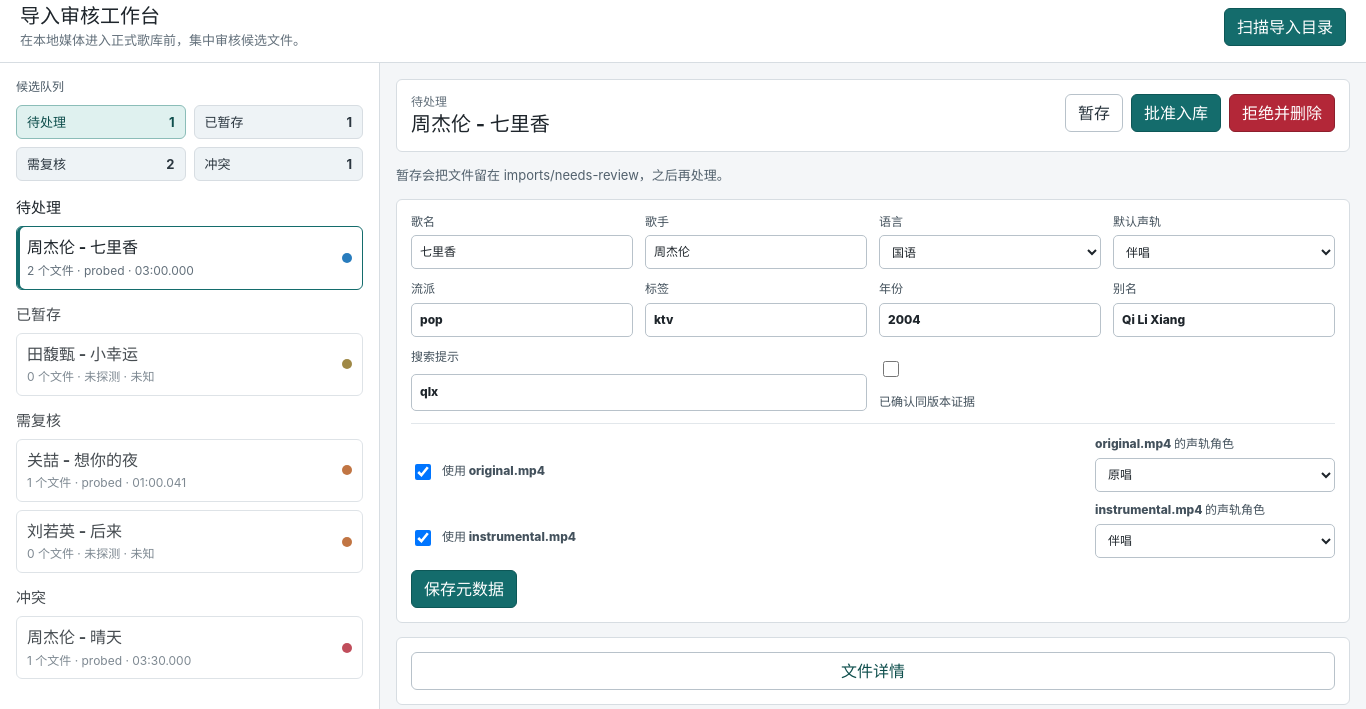
Test: import review workbench › expanding a candidate shows original files, proposed roles, root kind, path, probe status, and duration
Click the button "周杰伦 - 七里香 2 个文件 · probed · 03:00.000" at (51, 247), box [16, 226, 363, 290]
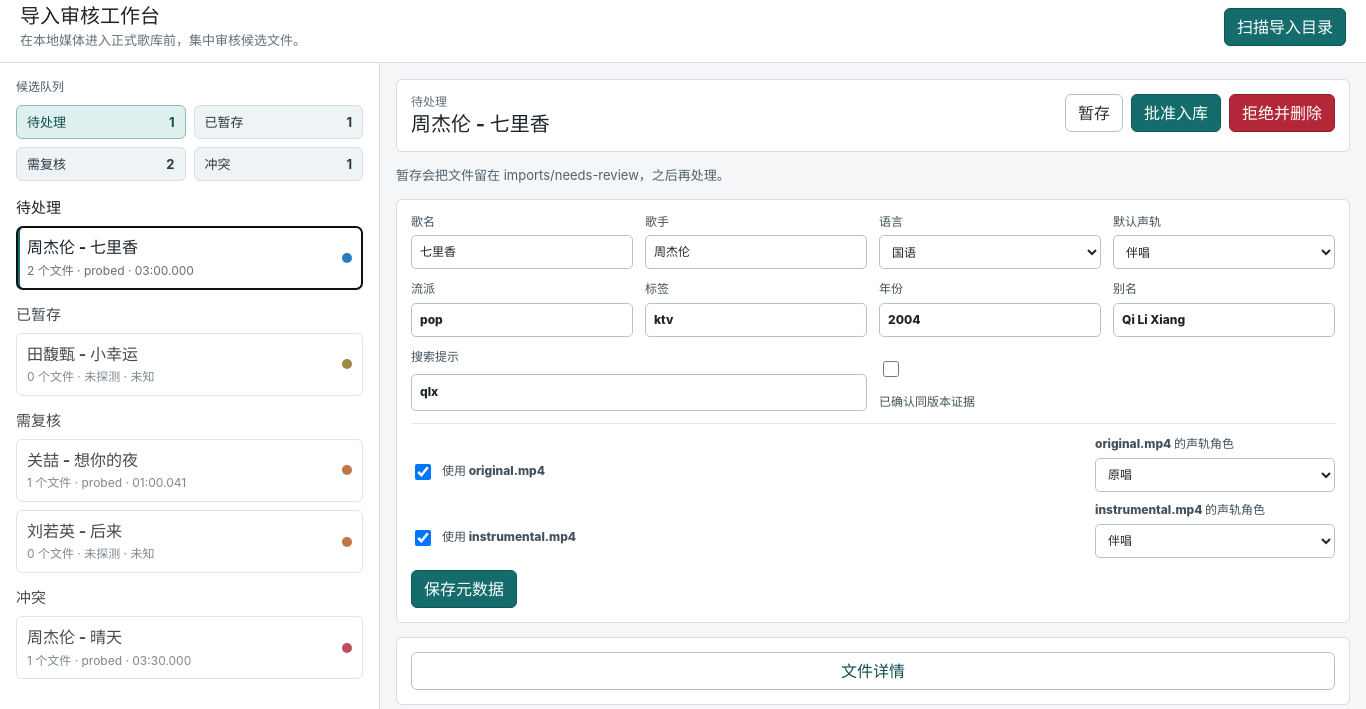
Click the button "文件详情" at (873, 671), box [411, 652, 1335, 690]
(page scrolled)
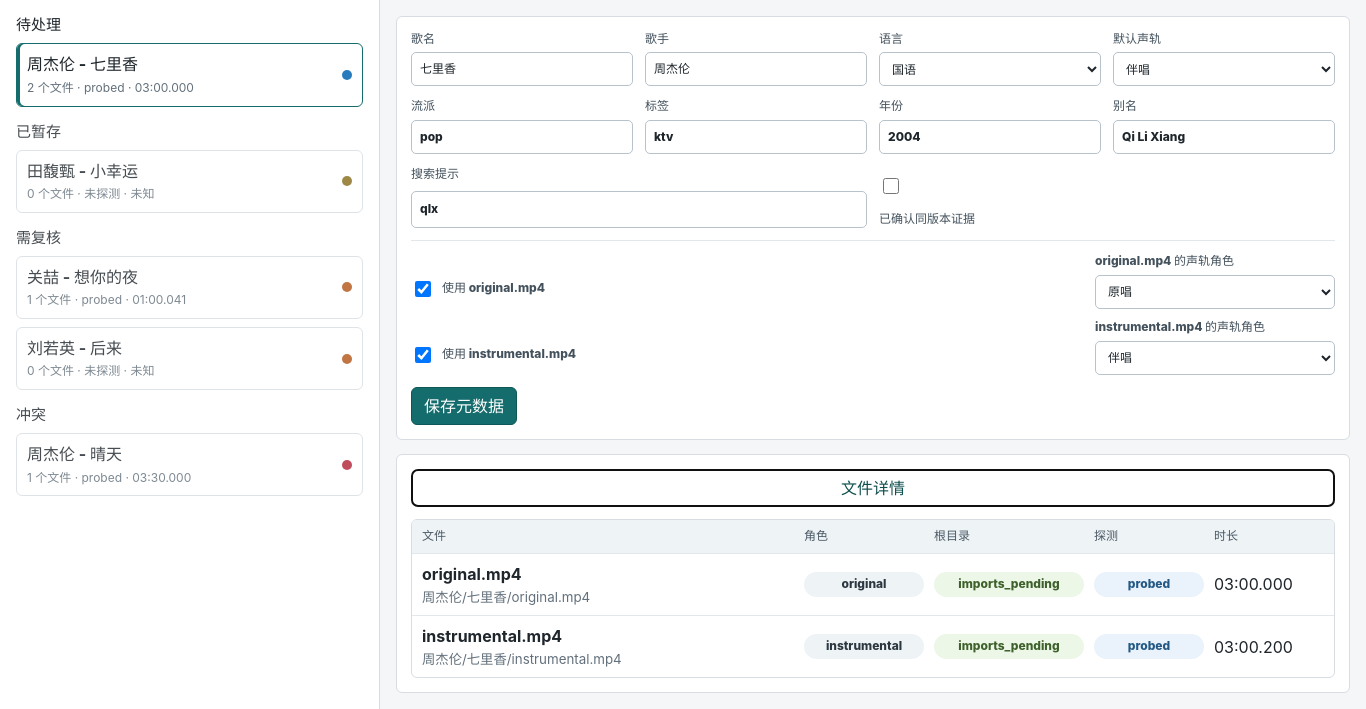
Expected: the text "original.mp4" is shown, [422, 564, 522, 584]
Expected: the text "instrumental.mp4" is shown, [422, 626, 562, 646]
Expected: the text "original" is shown, [804, 572, 924, 597]
